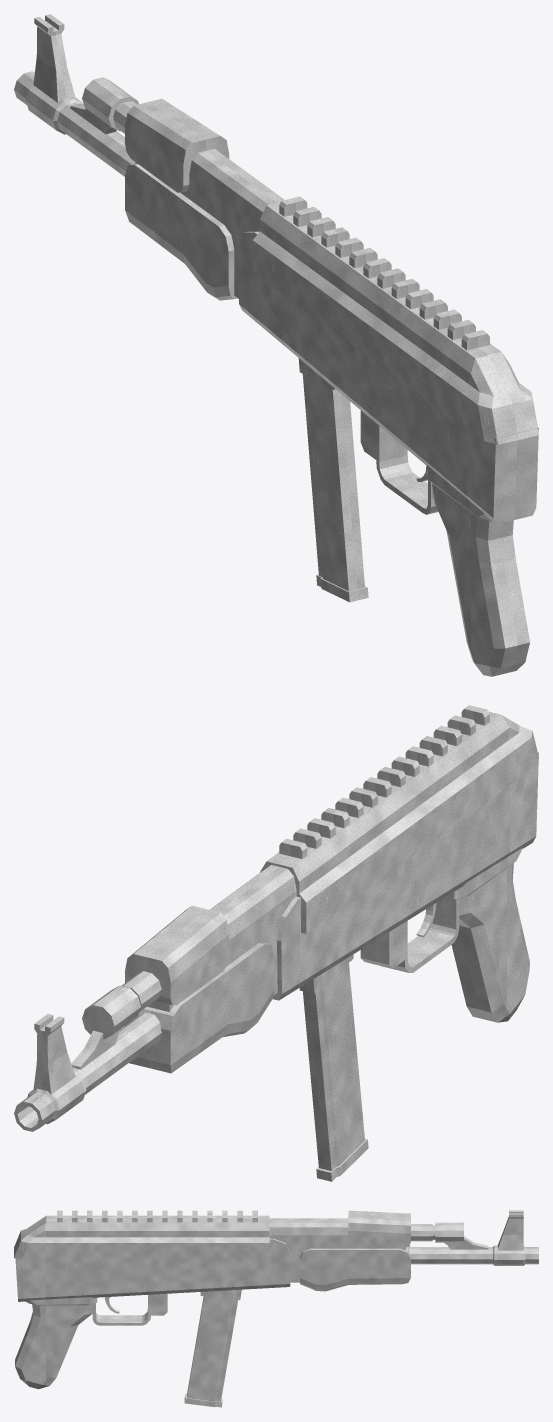
Rendered from rifle.obj.
The picture shows the model from 3 angles, top to bottom: view 1: azimuth 30°, elevation 25°; view 2: azimuth 150°, elevation 25°; view 3: azimuth 270°, elevation 25°; orthographic projection. The views are drawn at different scales.
Visible parts, largest first — view 1: AssaultRifle_1_Cube.139; view 2: AssaultRifle_1_Cube.139; view 3: AssaultRifle_1_Cube.139.
Boxes of the visible parts, left/top/right/bottom form: AssaultRifle_1_Cube.139: left=14, top=14, right=538, bottom=676; AssaultRifle_1_Cube.139: left=14, top=705, right=538, bottom=1181; AssaultRifle_1_Cube.139: left=14, top=1210, right=538, bottom=1407.
Bounding box in the file's own units: 0.0588 × 0.378 × 0.9314.
4 materials, 4 textured.
